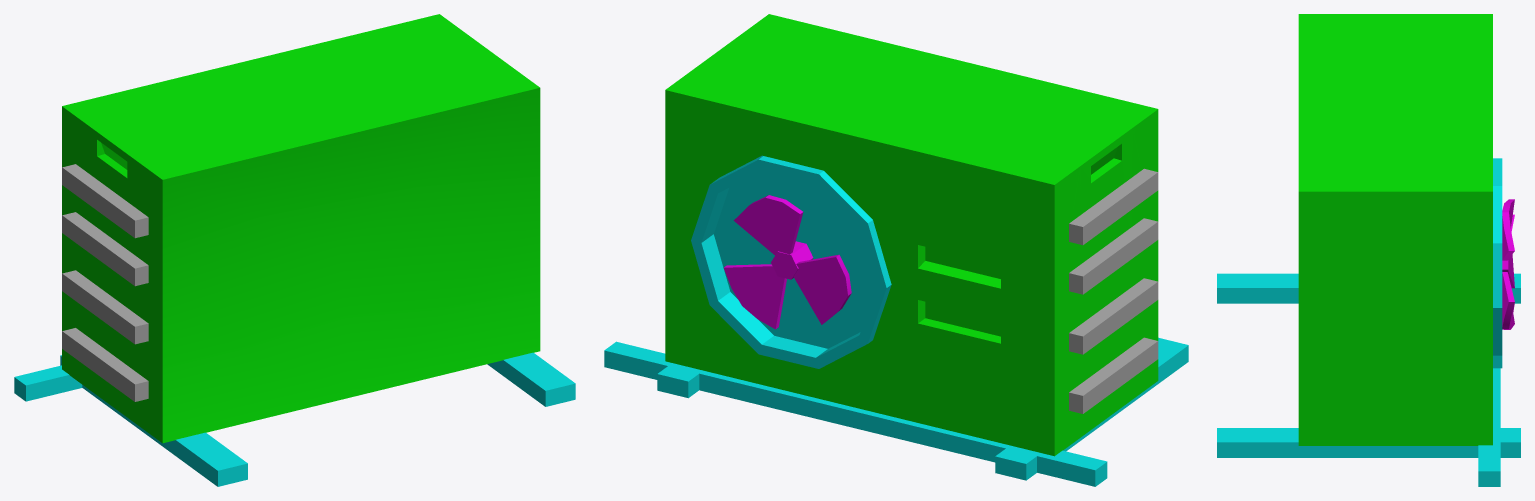
3 views of the same model, side by side, from view 1: azimuth 30°, elevation 25°; view 2: azimuth 150°, elevation 25°; view 3: azimuth 270°, elevation 25° (orthographic). The views are drawn at different scales.
Parts seen in each view (by area): view 1: polySurface243, polySurface238, polySurface239, polySurface244, polySurface236, polySurface240, polySurface241, polySurface242; view 2: polySurface243, polySurface237, polySurface242, fan1, polySurface241, polySurface244, polySurface236, polySurface240, polySurface238, polySurface239; view 3: polySurface243, polySurface239, polySurface238, polySurface237, fan1, polySurface242.
Boxes of the visible parts, <box> form: polySurface243: <box>62,14,540,443</box>; polySurface238: <box>60,355,247,486</box>; polySurface239: <box>487,352,575,406</box>; polySurface244: <box>62,212,148,286</box>; polySurface236: <box>62,270,148,344</box>; polySurface240: <box>62,328,148,401</box>; polySurface241: <box>62,164,148,238</box>; polySurface242: <box>14,365,82,401</box>; polySurface243: <box>665,14,1158,456</box>; polySurface237: <box>691,155,891,368</box>; polySurface242: <box>604,341,1107,486</box>; fan1: <box>723,195,851,329</box>; polySurface241: <box>1069,168,1158,245</box>; polySurface244: <box>1069,218,1158,294</box>; polySurface236: <box>1069,278,1158,354</box>; polySurface240: <box>1069,337,1158,413</box>; polySurface238: <box>995,337,1188,480</box>; polySurface239: <box>657,363,702,398</box>; polySurface243: <box>1298,14,1492,445</box>; polySurface239: <box>1217,428,1520,457</box>; polySurface238: <box>1217,273,1520,303</box>; polySurface237: <box>1493,158,1502,368</box>; fan1: <box>1502,199,1514,329</box>; polySurface242: <box>1478,368,1500,486</box>.
Bounding box in the file's own units: 133 × 74.38 × 76.06.
